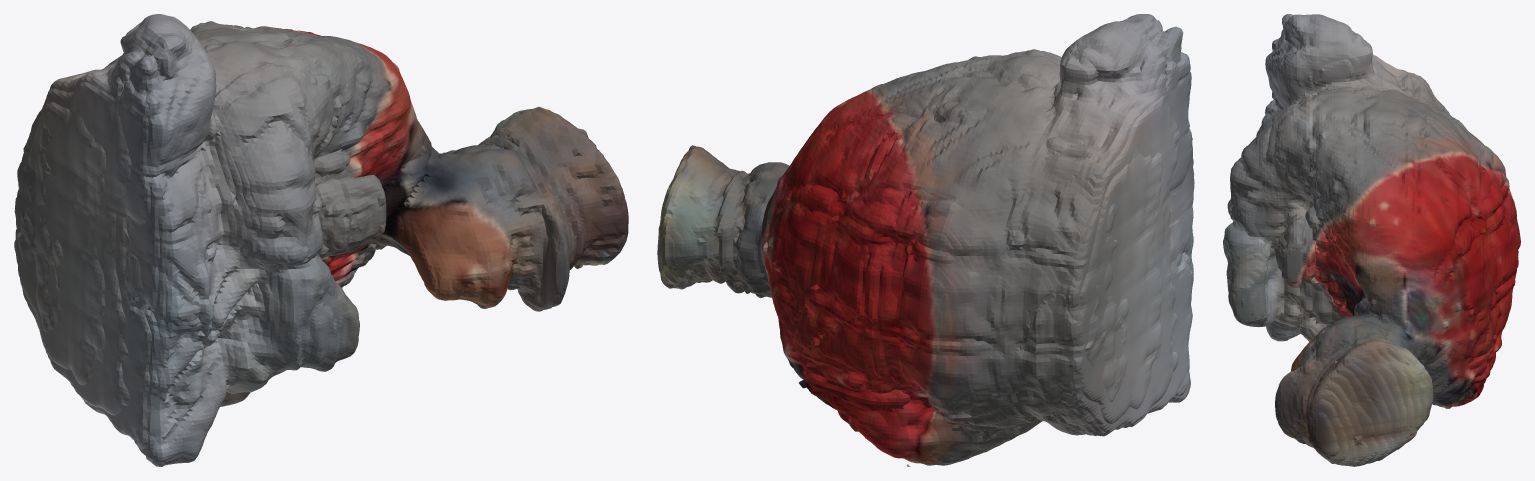
The model's file is angle_45_mesh.obj.
The picture shows the model from 3 angles, left to right: view 1: azimuth 30°, elevation 25°; view 2: azimuth 150°, elevation 25°; view 3: azimuth 270°, elevation 25°; orthographic projection. The views are drawn at different scales.
Size of the model in its own units: 0.9947 by 0.804 by 0.6405.
